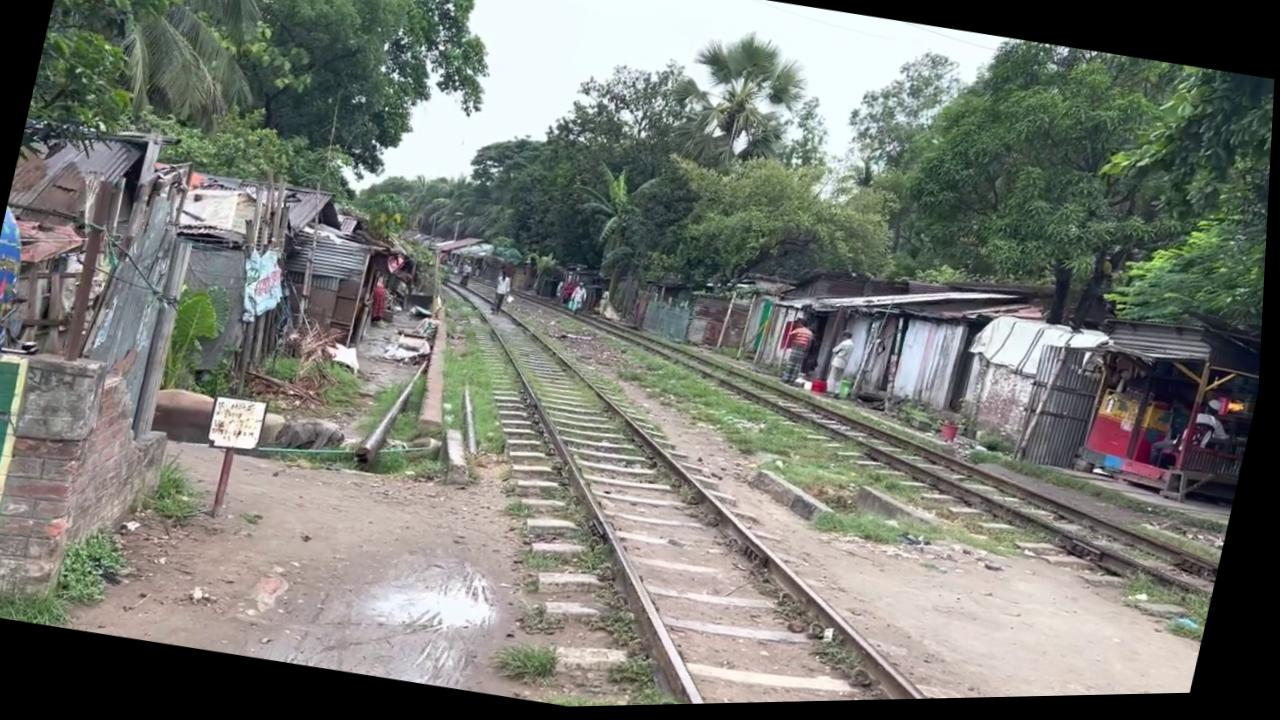Fence: (779, 318, 820, 390), (826, 330, 860, 400), (491, 267, 517, 318)
Motorcycle: (385, 271, 968, 713)
Pothole: (209, 392, 272, 455)
Railroad-crossing: (18, 0, 289, 195), (657, 20, 817, 182)
